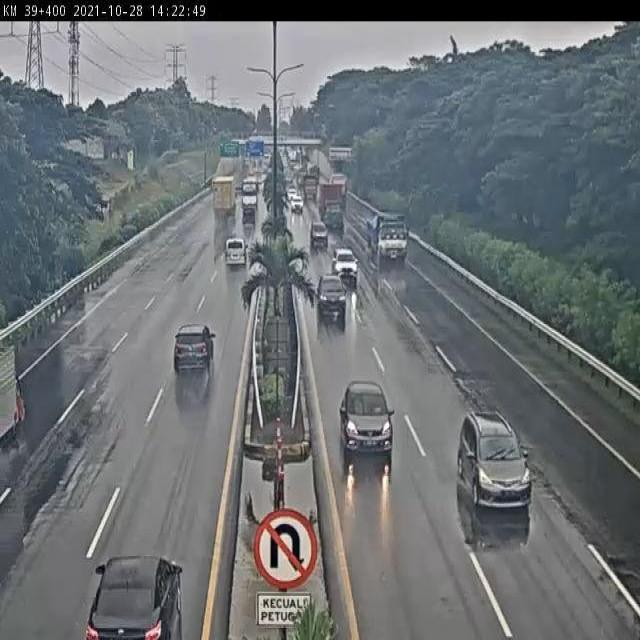big truck: (367, 212, 409, 264), (317, 187, 349, 236), (210, 175, 234, 217)
car: (448, 406, 541, 522), (83, 549, 187, 640), (334, 375, 401, 469), (169, 319, 221, 385), (313, 273, 350, 328), (328, 246, 362, 286), (221, 236, 251, 281), (310, 223, 329, 248), (240, 208, 256, 227), (289, 196, 304, 216)
